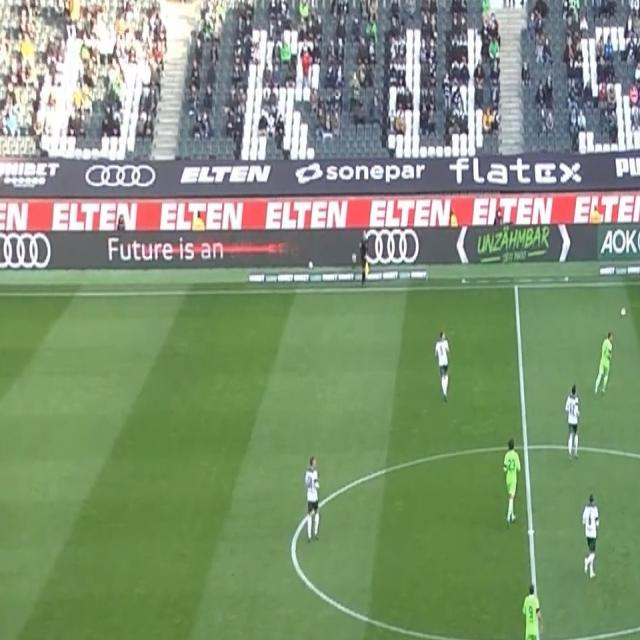ball: (619, 305, 627, 319)
